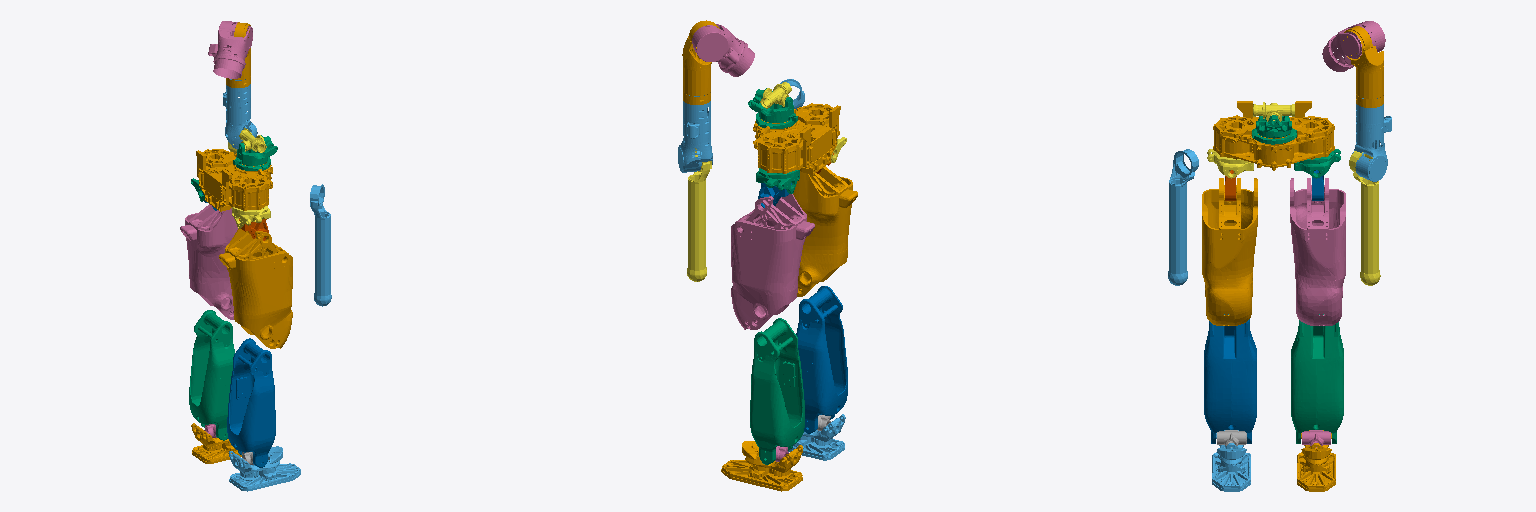
--- Render facts (derived) ---
Views: 3 orthographic renders of the robot side by side, from view 1: azimuth 30°, elevation 25°; view 2: azimuth 150°, elevation 25°; view 3: azimuth 270°, elevation 25°.
Model nadia with 34 links and 33 joints (23 revolute, 10 fixed), rooted at PELVIS_LINK, posed all joints at 0.
Visible links, largest first — view 1: RIGHT_THIGH_LINK, RIGHT_SHIN_LINK, LEFT_SHIN_LINK, LEFT_THIGH_LINK, PELVIS_LINK, RIGHT_ELBOW_PITCH_LINK, RIGHT_FOOT_LINK, LEFT_SHOULDER_PITCH_LINK, LEFT_SHOULDER_YAW_LINK, LEFT_FOOT_LINK, SPINE_YAW_LINK, LEFT_SHOULDER_ROLL_LINK (+1 smaller); view 2: LEFT_THIGH_LINK, LEFT_SHIN_LINK, RIGHT_SHIN_LINK, RIGHT_THIGH_LINK, PELVIS_LINK, LEFT_FOOT_LINK, LEFT_ELBOW_PITCH_LINK, LEFT_SHOULDER_PITCH_LINK, LEFT_SHOULDER_YAW_LINK, LEFT_SHOULDER_ROLL_LINK, RIGHT_FOOT_LINK, SPINE_YAW_LINK (+1 smaller); view 3: RIGHT_THIGH_LINK, LEFT_THIGH_LINK, RIGHT_SHIN_LINK, LEFT_SHIN_LINK, PELVIS_LINK, RIGHT_ELBOW_PITCH_LINK, LEFT_SHOULDER_YAW_LINK, LEFT_ELBOW_PITCH_LINK, LEFT_SHOULDER_ROLL_LINK, LEFT_FOOT_LINK, RIGHT_FOOT_LINK, LEFT_SHOULDER_PITCH_LINK (+4 smaller).
Link boxes in pixels (x1=…): RIGHT_THIGH_LINK: x1=219, y1=229, x2=292, y2=348; RIGHT_SHIN_LINK: x1=227, y1=338, x2=275, y2=467; LEFT_SHIN_LINK: x1=189, y1=310, x2=234, y2=440; LEFT_THIGH_LINK: x1=180, y1=204, x2=237, y2=319; PELVIS_LINK: x1=196, y1=149, x2=272, y2=211; RIGHT_ELBOW_PITCH_LINK: x1=310, y1=184, x2=331, y2=306; RIGHT_FOOT_LINK: x1=229, y1=446, x2=300, y2=491; LEFT_SHOULDER_PITCH_LINK: x1=208, y1=21, x2=252, y2=78; LEFT_SHOULDER_YAW_LINK: x1=223, y1=79, x2=257, y2=149; LEFT_FOOT_LINK: x1=191, y1=423, x2=241, y2=463; SPINE_YAW_LINK: x1=233, y1=135, x2=277, y2=170; LEFT_SHOULDER_ROLL_LINK: x1=226, y1=22, x2=250, y2=87; LEFT_THIGH_LINK: x1=731, y1=194, x2=814, y2=329; LEFT_SHIN_LINK: x1=750, y1=318, x2=804, y2=464; RIGHT_SHIN_LINK: x1=796, y1=286, x2=847, y2=433; RIGHT_THIGH_LINK: x1=793, y1=166, x2=857, y2=296; PELVIS_LINK: x1=753, y1=103, x2=840, y2=174; LEFT_FOOT_LINK: x1=721, y1=441, x2=802, y2=491; LEFT_ELBOW_PITCH_LINK: x1=687, y1=148, x2=711, y2=281; LEFT_SHOULDER_PITCH_LINK: x1=692, y1=24, x2=754, y2=76; LEFT_SHOULDER_YAW_LINK: x1=678, y1=95, x2=712, y2=172; LEFT_SHOULDER_ROLL_LINK: x1=682, y1=20, x2=719, y2=104; RIGHT_FOOT_LINK: x1=788, y1=414, x2=845, y2=460; SPINE_YAW_LINK: x1=748, y1=88, x2=797, y2=128; RIGHT_THIGH_LINK: x1=1202, y1=178, x2=1257, y2=325; LEFT_THIGH_LINK: x1=1290, y1=178, x2=1345, y2=325; RIGHT_SHIN_LINK: x1=1204, y1=314, x2=1256, y2=443; LEFT_SHIN_LINK: x1=1291, y1=314, x2=1343, y2=443; PELVIS_LINK: x1=1213, y1=101, x2=1334, y2=170; RIGHT_ELBOW_PITCH_LINK: x1=1168, y1=149, x2=1198, y2=285; LEFT_SHOULDER_YAW_LINK: x1=1352, y1=98, x2=1391, y2=181; LEFT_ELBOW_PITCH_LINK: x1=1349, y1=151, x2=1380, y2=285; LEFT_SHOULDER_ROLL_LINK: x1=1343, y1=26, x2=1383, y2=107; LEFT_FOOT_LINK: x1=1297, y1=430, x2=1335, y2=491; RIGHT_FOOT_LINK: x1=1212, y1=430, x2=1250, y2=491; LEFT_SHOULDER_PITCH_LINK: x1=1322, y1=21, x2=1385, y2=71.
Bounding box of the posed robot: 0.3882 × 0.6883 × 1.56 m (x, y, z).
20 mesh visuals loaded from 22 distinct referenced files (18 OBJ); not drawn: 4 (reference not matched to a file when rendering).

The robot description file, URDF, robot "nadia":
<?xml version = "1.0" ?>
<robot name="nadia" xmlns:xacro="http://www.ros.org/wiki/xacro">

<!-- revolute joints -->
<joint name="LEFT_HIP_Z" type="revolute">
    <origin rpy="0 0 0" xyz="0 0.115 -0.07185" />
    <axis xyz="0 0 -1" />
    <parent link="PELVIS_LINK" />
    <child link="LEFT_HIP_YAW_LINK" />
    <limit effort="1000" lower="-0.7854" upper="0.7854" velocity = "100" />
    <dynamics damping="0.05" friction="0.0"/>
</joint>

<joint name="RIGHT_HIP_Z" type="revolute">
    <origin rpy="0 0 0" xyz="0 -0.115 -0.07185" />
    <axis xyz="0 0 -1" />
    <parent link="PELVIS_LINK" />
    <child link="RIGHT_HIP_YAW_LINK" />
    <limit effort="1000" lower="-0.7854" upper="0.7854" velocity = "100" />
    <dynamics damping="0.05" friction="0.0"/>
</joint>

<joint name="LEFT_HIP_X" type="revolute">
    <origin rpy="0 0 0" xyz="0.035 0.015 -0.04975" />
    <axis xyz="1 0 0" />
    <parent link="LEFT_HIP_YAW_LINK" />
    <child link="LEFT_HIP_ROLL_LINK" />
    <limit effort="1000" lower="-0.5236" upper="1.0472" velocity = "100" />
    <dynamics damping="0.05" friction="0.0"/>
</joint>

<joint name="RIGHT_HIP_X" type="revolute">
    <origin rpy="0 0 0" xyz="0.035 -0.015 -0.04975" />
    <axis xyz="1 0 0" />
    <parent link="RIGHT_HIP_YAW_LINK" />
    <child link="RIGHT_HIP_ROLL_LINK" />
    <limit effort="1000" lower="-1.0472" upper="0.5236" velocity = "100" />
    <dynamics damping="0.05" friction="0.0"/>
</joint>

<joint name="LEFT_HIP_Y" type="revolute">
    <origin rpy="0 0 0" xyz="0 0 -0.079068" />
    <axis xyz="0 1 0" />
    <parent link="LEFT_HIP_ROLL_LINK" />
    <child link="LEFT_THIGH_LINK" />
    <limit effort="1000" lower="-1.57" upper="0.314" velocity = "100" />
    <dynamics damping="0.05" friction="0.0"/>
</joint>

<joint name='LEFT_KNEE_Y' type='revolute'>
    <!-- <origin rpy="0 0 0" xyz="0 0 -0.38" /> -->
    <origin rpy="0 0 0" xyz="-0.02 0 -0.44" />
    <axis xyz="0 1 0" />
    <parent link="LEFT_THIGH_LINK" />
    <child link="LEFT_SHIN_LINK" />
    <limit effort="350" lower="0" upper="2.62" velocity = "100" />
    <dynamics damping="0.05" friction="0.0"/>
</joint>

<joint name="RIGHT_HIP_Y" type="revolute">
    <origin rpy="0 0 0" xyz="0 0 -0.079068" />
    <axis xyz="0 1 0" />
    <parent link="RIGHT_HIP_ROLL_LINK" />
    <child link="RIGHT_THIGH_LINK" />
    <limit effort="1000" lower="-1.57" upper="0.314" velocity = "100" />
    <dynamics damping="0.05" friction="0.0"/>
</joint>

<joint name='RIGHT_KNEE_Y' type='revolute'>
    <!-- <origin rpy="0 0 0" xyz="0 0 -0.38" /> -->
    <origin rpy="0 0 0" xyz="-0.02 0 -0.44" />
    <axis xyz="0 1 0" />
    <parent link="RIGHT_THIGH_LINK" />
    <child link="RIGHT_SHIN_LINK" />
    <limit effort="350" lower="0" upper="2.62" velocity = "100" />
    <dynamics damping="0.05" friction="0.0"/>
</joint>

<joint name="LEFT_ANKLE_Y" type="revolute">
    <origin rpy="0 0 0" xyz="-0.00830222 0 -0.40213938" />
    <axis xyz="0 1 0" />
    <parent link="LEFT_SHIN_LINK" />
    <child link="LEFT_ANKLE_LINK" />
    <limit effort="1000" lower="-1.0472" upper="0.698132" velocity = "100" />
    <dynamics damping="0.05" friction="0.0"/>
</joint>

<joint name="RIGHT_ANKLE_Y" type="revolute">
    <origin rpy="0 0 0" xyz="-0.00830222 0 -0.40213938" />
    <axis xyz="0 1 0" />
    <parent link="RIGHT_SHIN_LINK" />
    <child link="RIGHT_ANKLE_LINK" />
    <limit effort="1000" lower="-1.0472" upper="0.698132" velocity = "100" />
    <dynamics damping="0.05" friction="0.0"/>
</joint>

<joint name="LEFT_ANKLE_X" type="revolute">
    <origin rpy="0 0 0" xyz="0 0 -0.01" />
    <axis xyz="1 0 0" />
    <parent link="LEFT_ANKLE_LINK" />
    <child link="LEFT_FOOT_LINK" />
    <limit effort="1000" lower="-0.436332" upper="0.436332" velocity = "100" />
    <dynamics damping="0.05" friction="0.0"/>
</joint>

<joint name="RIGHT_ANKLE_X" type="revolute">
    <origin rpy="0 0 0" xyz="0 0 -0.01" />
    <axis xyz="1 0 0" />
    <parent link="RIGHT_ANKLE_LINK" />
    <child link="RIGHT_FOOT_LINK" />
    <limit effort="1000" lower="-0.436332" upper="0.436332" velocity = "100" />
    <dynamics damping="0.05" friction="0.0"/>
</joint>

<joint name="SPINE_Z" type="revolute">
    <origin rpy="0 0 0" xyz="0.08 0 0.00635" />
    <axis xyz="0 0 1" />
    <parent link="PELVIS_LINK" />
    <child link="SPINE_YAW_LINK" />
    <limit effort="1000" lower="-1.0472" upper="1.0472" velocity = "100" />
    <dynamics damping="0.05" friction="0.0"/>
</joint>

<joint name="SPINE_X" type="revolute">
    <origin rpy="0 0 0" xyz="0 0 0.08205" />
    <axis xyz="1 0 0" />
    <parent link="SPINE_YAW_LINK" />
    <child link="SPINE_ROLL_LINK" />
    <limit effort="1000" lower="-0.523599" upper="0.523599" velocity = "100" />
    <dynamics damping="0.05" friction="0.0"/>
</joint>

<joint name="SPINE_Y" type="revolute">
    <origin rpy="0 0 0" xyz="0 0 0.01" />
    <axis xyz="0 1 0" />
    <parent link="SPINE_ROLL_LINK" />
    <child link="TORSO_LINK" />
    <limit effort="1000" lower="-1.0472" upper="1.0472" velocity = "100" />
    <dynamics damping="0.05" friction="0.0"/>
</joint>


<!-- links -->
<link name="PELVIS_LINK">
  <inertial>
    <mass value="19.0917"/>
    <origin rpy="0 0 0" xyz="0.02073086 2.023E-05 -0.0309812"/>
    <inertia ixx="0.0942" ixy="6.05E-06" ixz="0.000379" iyy="0.0416" iyz="3.37E-07" izz="0.112" />
  </inertial>
  <visual>
    <geometry>
      <mesh filename="package://nadia_V16_description/meshes/pelvis.obj"/>
    </geometry>
    <origin rpy="0.0 0.0 0.0" xyz="0.0 0.0 0.0"/>
  </visual>
</link>

<!-- pelvis_stim_imu -->
  <joint name="PELVIS_STIM_IMU_JOINT" type="fixed">
    <parent link="PELVIS_LINK"/>
    <child link="PELVIS_STIM_IMU_LINK"/>
    <origin xyz="-0.03133646 0.02237500 -0.07000000" rpy="0.0 3.141592 0.0"/>
  </joint>

  <link name="PELVIS_STIM_IMU_LINK">
    <inertial>
      <mass value="0.0" />
      <origin xyz="0 0 0" rpy="0 0 0" />
      <inertia ixx="0.0" ixy="0.0" ixz="0.0" iyy="0.0" iyz="0.0" izz="0.0" />
    </inertial>
  </link>

  <gazebo reference="PELVIS_STIM_IMU_LINK">
    <sensor name="pelvis_stim_imu" type="imu">
      <always_on>1</always_on>
      <update_rate>1000.0</update_rate>
      <imu>
        <noise>
          <type>gaussian</type>
          <rate>
            <mean>0.0</mean>
            <stddev>2e-4</stddev>
            <bias_mean>0.0000075</bias_mean>
            <bias_stddev>0.0000008</bias_stddev>
          </rate>
          <accel>
            <mean>0.0</mean>
            <stddev>1.7e-2</stddev>
            <bias_mean>0.1</bias_mean>
            <bias_stddev>0.001</bias_stddev>
          </accel>
        </noise>
      </imu>
    </sensor>
  </gazebo>
 <!-- end pelvis stim imu -->

<link name="LEFT_HIP_YAW_LINK">
  <inertial>
    <mass value="1.814"/>
    <origin rpy="0 0 0" xyz="-0.00629727 0.00606893 -0.03971844"/>
    <inertia ixx="0.004741914" ixy="0.000527" ixz="-0.000307" iyy="0.00414" iyz="1.36E-05" izz="0.00569" />
  </inertial>
  <visual>
    <geometry>
      <mesh filename="package://nadia_V16_description/meshes/left_hip_yaw.obj"/>
    </geometry>
    <origin rpy="0.0 0.0 0.0" xyz="0.0 0.0 0.0"/>
  </visual>
</link>

<link name="RIGHT_HIP_YAW_LINK">
  <inertial>
    <mass value="1.814"/>
    <origin rpy="0 0 0" xyz="-0.00629727 -0.00606893 -0.03971844"/>
    <inertia ixx="0.004741914" ixy="-0.000527" ixz="-0.000307" iyy="0.00414" iyz="-1.36E-05" izz="0.00569" />
  </inertial>
  <visual>
    <geometry>
      <mesh filename="package://nadia_V16_description/meshes/right_hip_yaw.obj"/>
    </geometry>
    <origin rpy="0.0 0.0 0.0" xyz="0.0 0.0 0.0"/>
  </visual>
</link>

<link name="LEFT_HIP_ROLL_LINK">
  <inertial>
    <mass value="0.762"/>
    <origin rpy="0 0 0" xyz="-0.01327037 0.00316985 -0.05399997"/>
    <inertia ixx="0.001028994" ixy="-9.31E-06" ixz="0.000352" iyy="0.00138" iyz="3.22E-05" izz="0.000663" />
  </inertial>
  <visual>
    <geometry>
      <mesh filename="package://nadia_V16_description/meshes/left_hip_roll.obj"/>
    </geometry>
    <origin rpy="0.0 0.0 0.0" xyz="0.0 0.0 0.0"/>
  </visual>
</link>

<link name="RIGHT_HIP_ROLL_LINK">
  <inertial>
    <mass value="0.762"/>
    <origin rpy="0 0 0" xyz="-0.01327037 -0.00316985 -0.05399997"/>
    <inertia ixx="0.001028994" ixy="9.31E-06" ixz="0.000352" iyy="0.00138" iyz="-3.22E-05" izz="0.000663" />
  </inertial>
  <visual>
    <geometry>
      <mesh filename="package://nadia_V16_description/meshes/right_hip_roll.obj"/>
    </geometry>
    <origin rpy="0.0 0.0 0.0" xyz="0.0 0.0 0.0"/>
  </visual>
</link>

<link name="LEFT_THIGH_LINK">
  <inertial>
    <mass value="10.953"/>
    <origin rpy="0 0 0" xyz="-0.00093749 0.01134511 -0.17863144"/>
    <inertia ixx="0.1622268263" ixy="-0.000749" ixz="0.0156" iyy="0.174" iyz="0.00213" izz="0.0528" />
  </inertial>
  <visual>
    <geometry>
      <mesh filename="package://nadia_V16_description/meshes/left_thigh.obj"/>
    </geometry>
    <origin rpy="0.0 0.0 0.0" xyz="0.0 0.0 0.0"/>
  </visual>
</link>

<!-- left thigh imu -->
  <joint name="LEFT_THIGH_IMU_JOINT" type="fixed">
    <parent link="LEFT_THIGH_LINK"/>
    <child link="LEFT_THIGH_IMU_LINK"/>
    <origin xyz="0.05793744 0.01666131 -0.09511697" rpy="2.025  0.000 -1.571"/>  
  </joint>

  <link name="LEFT_THIGH_IMU_LINK">
    <inertial>
      <mass value="0.0" />
      <origin xyz="0 0 0" rpy="0 0 0" />
      <inertia ixx="0.0" ixy="0.0" ixz="0.0" iyy="0.0" iyz="0.0" izz="0.0" />
    </inertial>
  </link>

  <gazebo reference="LEFT_THIGH_IMU_LINK">
    <sensor name="left_thigh_imu" type="imu">
      <always_on>1</always_on>
      <update_rate>1000.0</update_rate>
      <imu>
        <noise>
          <type>gaussian</type>
          <rate>
            <mean>0.0</mean>
            <stddev>2e-4</stddev>
            <bias_mean>0.0000075</bias_mean>
            <bias_stddev>0.0000008</bias_stddev>
          </rate>
          <accel>
            <mean>0.0</mean>
            <stddev>1.7e-2</stddev>
            <bias_mean>0.1</bias_mean>
            <bias_stddev>0.001</bias_stddev>
          </accel>
        </noise>
      </imu>
    </sensor>
  </gazebo>
<!-- end left thigh imu -->

<link name="RIGHT_THIGH_LINK">
  <inertial>
    <mass value="10.953"/>
    <origin rpy="0 0 0" xyz="-0.00093749 -0.01134511 -0.17863144"/>
    <inertia ixx="0.1622268263" ixy="0.000749" ixz="0.0156" iyy="0.174" iyz="-0.00213" izz="0.0528" />
  </inertial>
  <visual>
    <geometry>
      <mesh filename="package://nadia_V16_description/meshes/right_thigh.obj"/>
    </geometry>
    <origin rpy="0.0 0.0 0.0" xyz="0.0 0.0 0.0"/>
  </visual>
</link>

<!-- right thigh imu -->
  <joint name="RIGHT_THIGH_IMU_JOINT" type="fixed">
    <parent link="RIGHT_THIGH_LINK"/>
    <child link="RIGHT_THIGH_IMU_LINK"/>
    <origin xyz="0.05793670 0.01066129 -0.09511742" rpy="2.025  0.000 -1.571"/>  
  </joint>

  <link name="RIGHT_THIGH_IMU_LINK">
    <inertial>
      <mass value="0.0" />
      <origin xyz="0 0 0" rpy="0 0 0" />
      <inertia ixx="0.0" ixy="0.0" ixz="0.0" iyy="0.0" iyz="0.0" izz="0.0" />
    </inertial>
  </link>

  <gazebo reference="RIGHT_THIGH_IMU_LINK">
    <sensor name="right_thigh_imu" type="imu">
      <always_on>1</always_on>
      <update_rate>1000.0</update_rate>
      <imu>
        <noise>
          <type>gaussian</type>
          <rate>
            <mean>0.0</mean>
            <stddev>2e-4</stddev>
            <bias_mean>0.0000075</bias_mean>
            <bias_stddev>0.0000008</bias_stddev>
          </rate>
          <accel>
            <mean>0.0</mean>
            <stddev>1.7e-2</stddev>
            <bias_mean>0.1</bias_mean>
            <bias_stddev>0.001</bias_stddev>
          </accel>
        </noise>
      </imu>
    </sensor>
  </gazebo>
<!-- end right thigh imu -->

<link name="LEFT_SHIN_LINK">
  <inertial>
    <mass value="5.42"/>
    <origin rpy="0 0 0" xyz="-0.01841492 0.00228086 -0.22054239"/>
    <inertia ixx="0.064437783" ixy="-0.000214" ixz="-0.00538" iyy="0.0583" iyz="-0.000962" izz="0.0136" />
  </inertial>
  <visual>
    <geometry>
      <mesh filename="package://nadia_V16_description/meshes/left_shin.obj"/>
    </geometry>
    <origin rpy="0.0 0.0 0.0" xyz="0.0 0.0 0.0"/>
  </visual>
</link>


<!-- left shin imu -->
  <joint name="LEFT_SHIN_IMU_JOINT" type="fixed">
    <parent link="LEFT_SHIN_LINK"/>
    <child link="LEFT_SHIN_IMU_LINK"/>
    <origin xyz="-0.03216129 -0.07159184 -0.1864738" rpy="-1.570796 0.0 0.0"/>  
  </joint>

  <link name="LEFT_SHIN_IMU_LINK">
    <inertial>
      <mass value="0.0" />
      <origin xyz="0 0 0" rpy="0 0 0" />
      <inertia ixx="0.0" ixy="0.0" ixz="0.0" iyy="0.0" iyz="0.0" izz="0.0" />
    </inertial>
  </link>

  <gazebo reference="LEFT_SHIN_IMU_LINK">
    <sensor name="left_shin_imu" type="imu">
      <always_on>1</always_on>
      <update_rate>1000.0</update_rate>
      <imu>
        <noise>
          <type>gaussian</type>
          <rate>
            <mean>0.0</mean>
            <stddev>2e-4</stddev>
            <bias_mean>0.0000075</bias_mean>
            <bias_stddev>0.0000008</bias_stddev>
          </rate>
          <accel>
            <mean>0.0</mean>
            <stddev>1.7e-2</stddev>
            <bias_mean>0.1</bias_mean>
            <bias_stddev>0.001</bias_stddev>
          </accel>
        </noise>
      </imu>
    </sensor>
  </gazebo>
<!-- end left shin imu -->

<link name="RIGHT_SHIN_LINK">
  <inertial>
    <mass value="5.42"/>
    <origin rpy="0 0 0" xyz="-0.01837047 -0.00241134 -0.21991278"/>
    <inertia ixx="0.064443143" ixy="0.000202" ixz="-0.00539" iyy="0.0583" iyz="0.000906" izz="0.0136" />
  </inertial>
  <visual>
    <geometry>
      <mesh filename="package://nadia_V16_description/meshes/right_shin.obj"/>
    </geometry>
    <origin rpy="0.0 0.0 0.0" xyz="0.0 0.0 0.0"/>
  </visual>
</link>

<!-- right shin imu -->
  <joint name="RIGHT_SHIN_IMU_JOINT" type="fixed">
    <parent link="RIGHT_SHIN_LINK"/>
    <child link="RIGHT_SHIN_IMU_LINK"/>
    <origin xyz="-0.002838710 0.07159142 -0.1864738" rpy="-1.570796 0.0 3.141592"/>  
  </joint>

  <link name="RIGHT_SHIN_IMU_LINK">
    <inertial>
      <mass value="0.0" />
      <origin xyz="0 0 0" rpy="0 0 0" />
      <inertia ixx="0.0" ixy="0.0" ixz="0.0" iyy="0.0" iyz="0.0" izz="0.0" />
    </inertial>
  </link>

  <gazebo reference="RIGHT_SHIN_IMU_LINK">
    <sensor name="right_shin_imu" type="imu">
      <always_on>1</always_on>
      <update_rate>1000.0</update_rate>
      <imu>
        <noise>
          <type>gaussian</type>
          <rate>
            <mean>0.0</mean>
            <stddev>2e-4</stddev>
            <bias_mean>0.0000075</bias_mean>
            <bias_stddev>0.0000008</bias_stddev>
          </rate>
          <accel>
            <mean>0.0</mean>
            <stddev>1.7e-2</stddev>
            <bias_mean>0.1</bias_mean>
            <bias_stddev>0.001</bias_stddev>
          </accel>
        </noise>
      </imu>
    </sensor>
  </gazebo>
<!-- end right shin imu -->

<link name="LEFT_ANKLE_LINK">
  <inertial>
    <mass value="0.56"/>
    <origin rpy="0 0 0" xyz="-0.00072338 -6.619E-05 -0.00399965"/>
    <inertia ixx="0.000459" ixy="2.65E-08" ixz="-2.43E-06" iyy="0.000336" iyz="1.48E-07" izz="0.000645" />
  </inertial>
  <visual>
    <geometry>
      <mesh filename="package://nadia_V16_description/meshes/ankle.obj"/>
    </geometry>
    <origin rpy="0.0 0.0 0.0" xyz="0.0 0.0 0.0"/>
  </visual>
</link>

<link name="RIGHT_ANKLE_LINK">
  <inertial>
    <mass value="0.56"/>
    <origin rpy="0 0 0" xyz="-0.00072338 6.619E-05 -0.00399965"/>
    <inertia ixx="0.000459" ixy="-2.65E-08" ixz="-2.43E-06" iyy="0.000336" iyz="-1.48E-07" izz="0.000645" />
  </inertial>
  <visual>
    <geometry>
      <mesh filename="package://nadia_V16_description/meshes/ankle.obj"/>
    </geometry>
    <origin rpy="0.0 0.0 0.0" xyz="0.0 0.0 0.0"/>
  </visual>
</link>

<link name="LEFT_FOOT_LINK">
  <inertial>
    <mass value="1.75"/>
    <origin rpy="0 0 0" xyz="0.03075449 0.00007807 -0.04382467"/>
    <inertia ixx="0.00345011" ixy="-0.0000073" ixz="0.0014225" iyy="0.00955764" iyz="-2.269e-7" izz="0.00881313" />
  </inertial>
  <visual>
    <geometry>
      <mesh filename="package://nadia_V16_description/meshes/foot.obj"/>
    </geometry>
    <origin rpy="0.0 0.0 0.0" xyz="0.0 0.0 0.0"/>
  </visual>
</link>

<link name="RIGHT_FOOT_LINK">
  <inertial>
    <mass value="1.75"/>
    <origin rpy="0 0 0" xyz="0.032048 4e-06 -0.028422"/>
    <inertia ixx="0.00345011" ixy="-0.0000073" ixz="0.0014225" iyy="0.00955764" iyz="-2.269e-7" izz="0.00881313" />
  </inertial>
  <visual>
    <geometry>
      <mesh filename="package://nadia_V16_description/meshes/foot.obj"/>
    </geometry>
    <origin rpy="0.0 0.0 0.0" xyz="0.0 0.0 0.0"/>
  </visual>
</link>

<link name="SPINE_YAW_LINK">
  <inertial>
    <mass value="0.91"/>
    <origin rpy="0 0 0" xyz="-0.00853118 -2.697E-05 0.03791445"/>
    <inertia ixx="0.00374289408" ixy="1.25497934E-07" ixz="0.000271325072" iyy="0.00403002777" iyz="-1.38015692E-07" izz="0.0062129847" />
  </inertial>
  <visual>
    <geometry>
      <mesh filename="package://nadia_V16_description/meshes/spine_yaw.obj"/>
    </geometry>
    <origin rpy="0.0 0.0 0.0" xyz="0.0 0.0 0.0"/>
  </visual>
</link>

<link name="SPINE_ROLL_LINK">
  <inertial>
    <mass value="0.44"/>
    <origin rpy="0 0 0" xyz="-0.01904983 7E-08 0.01979244"/>
    <inertia ixx="0.000373262301" ixy="-1.51441878E-10" ixz="-6.69067307E-05" iyy="0.000649978475" iyz="-1.27858402E-10" izz="0.000419408851" />
  </inertial>
  <visual>
    <geometry>
      <mesh filename="package://nadia_V16_description/meshes/spine_roll.obj"/>
    </geometry>
    <origin rpy="0.0 0.0 0.0" xyz="0.0 0.0 0.0"/>
  </visual>
</link>

<link name="TORSO_LINK">
  <inertial>
    <mass value="13.5"/>
    <origin rpy="0 0 0" xyz="-0.03613868 -2.81E-06 0.25908586"/>
    <inertia ixx="0.534504681" ixy="8.41519717E-05" ixz="-0.00672956305" iyy="0.505409852" iyz="0.000207996773" izz="0.379402013" />
  </inertial>
  <visual>
    <geometry>
      <mesh filename="package://nadia_V16_description/meshes/torso_cycloidmounts.obj"/>
    </geometry>
    <origin rpy="0.0 0.0 0.0" xyz="0.0 0.0 0.0"/>
  </visual>
</link>

<!-- torso imu -->
  <joint name="TORSO_IMU_JOINT" type="fixed">
    <parent link="TORSO_LINK"/>
    <child link="TORSO_IMU_LINK"/>
    <origin xyz="0.04529 -0.02427 0.33757" rpy="3.141592 0 0"/>  
  </joint>

  <link name="TORSO_IMU_LINK">
    <inertial>
      <mass value="0.0" />
      <origin xyz="0 0 0" rpy="0 0 0" />
      <inertia ixx="0.0" ixy="0.0" ixz="0.0" iyy="0.0" iyz="0.0" izz="0.0" />
    </inertial>
  </link>

  <gazebo reference="TORSO_IMU_LINK">
    <sensor name="torso_imu" type="imu">
      <always_on>1</always_on>
      <update_rate>1000.0</update_rate>
      <imu>
        <noise>
          <type>gaussian</type>
          <rate>
            <mean>0.0</mean>
            <stddev>2e-4</stddev>
            <bias_mean>0.0000075</bias_mean>
            <bias_stddev>0.0000008</bias_stddev>
          </rate>
          <accel>
            <mean>0.0</mean>
            <stddev>1.7e-2</stddev>
            <bias_mean>0.1</bias_mean>
            <bias_stddev>0.001</bias_stddev>
          </accel>
        </noise>
      </imu>
    </sensor>
  </gazebo>
<!-- end torso imu -->

<!-- left arm -->
<joint name="LEFT_SHOULDER_Y" type="revolute">
    <origin xyz="0.001 0.185 0.173" rpy="0.785398163 0.0 -0.785398163"   />
    <axis xyz="0.0 1.0 0.0" />
    <parent link="TORSO_LINK" />
    <child link="LEFT_SHOULDER_PITCH_LINK" />
    <limit effort="1000" lower="-3.141592" upper="1.22173" velocity = "100" />
    <dynamics damping="0.05" friction="0.0"/>
</joint>
<joint name="LEFT_SHOULDER_X" type="revolute">
    <origin rpy="-0.785398163 0.0 0.0" xyz="0.0 0.15676000 -0.01300000" />
    <axis xyz="1 0 0" />
    <parent link="LEFT_SHOULDER_PITCH_LINK" />
    <child link="LEFT_SHOULDER_ROLL_LINK" />
    <limit effort="1000" lower="-0.261799" upper="2.87979" velocity = "100" />
    <dynamics damping="0.05" friction="0.0"/>
</joint>
<joint name="LEFT_SHOULDER_Z" type="revolute">
    <origin rpy="0.0 0.0 0.0" xyz="0.0 0.035 0.0" />
    <axis xyz="0.0 0.0 1.0" />
    <parent link="LEFT_SHOULDER_ROLL_LINK" />
    <child link="LEFT_SHOULDER_YAW_LINK" />
    <limit effort="1000" lower="-1.91986" upper="1.22173" velocity = "100" />
    <dynamics damping="0.05" friction="0.0"/>
</joint>
<joint name="LEFT_ELBOW_Y" type="revolute">
    <origin rpy="0.0 0.0 0.0" xyz="0.015 0.0 -0.4" />
    <axis xyz="0.0 1.0 0.0" />
    <parent link="LEFT_SHOULDER_YAW_LINK" />
    <child link="LEFT_ELBOW_PITCH_LINK" />
    <limit effort="1000" lower="-2.35619" upper="0.174532925" velocity = "100" />
    <dynamics damping="0.05" friction="0.0"/>
</joint>

<link name="LEFT_SHOULDER_PITCH_LINK">
  <inertial>
    <mass value="2.917"/>
    <origin rpy="0 0 0" xyz="-0.00117 0.1400097 -0.00621"/>
    <inertia ixx="0.0108367" ixy="1.356e-4" ixz="-2.666e-5" iyy="0.00498324" iyz="0.00090758" izz="0.01142661" />
  </inertial>
  <visual>
    <geometry>
      <mesh filename="package://nadia_V17_description/meshes/cycloidal_arm/LEFT_SHOULDER_PITCH_LINK.obj"/>
    </geometry>
    <origin rpy="0.0 0.0 0.0" xyz="0.0 0.0 0.0"/>
  </visual>
</link>

<!-- LEFT SHOULDER PITCH IMU Information --> 
<joint name="LEFT_SHOULDER_PITCH_IMU_JOINT" type="fixed">
	<origin rpy="-1.570796 1.570796 0" xyz="0.0174 0.06944 -0.03025"/>
	<axis xyz="0 0 1"/>
	<parent link="LEFT_SHOULDER_PITCH_LINK"/>
	<child link="LEFT_SHOULDER_PITCH_IMU_LINK"/>
</joint>

<link name="LEFT_SHOULDER_PITCH_IMU_LINK">
    <inertial>
      <mass value="0"/>
      <origin rpy="0 0 0" xyz="0 0 0"/>
      <inertia ixx="0.0" ixy="0.0" ixz="0.0" iyy="0.0" iyz="0.0" izz="0.0"/>
    </inertial>
</link>

<gazebo reference="LEFT_SHOULDER_PITCH_IMU_LINK">
	<sensor name="left_shoulder_pitch_imu" type="imu">
	  <imuTransform>0.0174 0.06944 -0.03025 -1.570796 1.570796 0</imuTransform>
	  <always_on>true</always_on>
	  <pose>0 0 0 0 0 0 </pose>
	  <imu>
		<noise>
		  <type>gaussian</type>
		  <rate>
			<mean>0</mean>
			<stddev>0.0002</stddev>
			<bias_mean>7.5e-06</bias_mean>
			<bias_stddev>8e-07</bias_stddev>
		  </rate>
		  <accel>
			<mean>0</mean>
			<stddev>0.017</stddev>
			<bias_mean>0.1</bias_mean>
			<bias_stddev>0.001</bias_stddev>
		  </accel>
		</noise>
	  </imu>
	</sensor>
</gazebo>

<link name="LEFT_SHOULDER_ROLL_LINK">
  <inertial>
    <mass value="1.17068"/>
    <origin rpy="0 0 0" xyz="0.01053 0.02124 -0.1052690"/>
    <inertia ixx="0.00787035" ixy="1.667e-4" ixz="-0.00075945" iyy="0.00727481" iyz="0.000988837" izz="0.00182144" />
  </inertial>
  <visual>
    <geometry>
      <mesh filename="package://nadia_V17_description/meshes/cycloidal_arm/LEFT_SHOULDER_ROLL_LINK.obj"/>
    </geometry>
    <origin rpy="0.0 0.0 0.0" xyz="0.0 0.0 0.0"/>
  </visual>
</link>

<link name="LEFT_SHOULDER_YAW_LINK">
  <inertial>
    <mass value="2.53059"/>
    <origin rpy="0 0 0" xyz="0.00479 0.00062 -0.3624141"/>
    <inertia ixx="0.02277422" ixy="5.053e-5" ixz="0.0012266" iyy="0.0225956" iyz="-2.571e-4" izz="0.00260312" />
  </inertial>
  <visual>
    <geometry>
      <mesh filename="package://nadia_V17_description/meshes/cycloidal_arm/LEFT_SHOULDER_YAW_LINK.obj"/>
    </geometry>
    <origin rpy="0.0 0.0 0.0" xyz="0.0 0.0 0.0"/>
  </visual>
</link>

<!-- Left Shoulder Yaw IMU -->
<joint name="LEFT_SHOULDER_YAW_IMU_JOINT" type="fixed">
	<origin rpy="-1.570796 3.1415926 -0.314159" xyz="-0.00763459 -0.0123324 -0.318"/>
	<axis xyz="0 0 1"/>
	<parent link="LEFT_SHOULDER_YAW_LINK"/> 
	<child link="LEFT_SHOULDER_YAW_IMU_LINK"/>
</joint>

<link name="LEFT_SHOULDER_YAW_IMU_LINK">
    <inertial>
      <mass value="0"/>
      <origin rpy="0 0 0" xyz="0 0 0"/>
      <inertia ixx="0.0" ixy="0.0" ixz="0.0" iyy="0.0" iyz="0.0" izz="0.0"/>
    </inertial>
 </link>

<gazebo reference="LEFT_SHOULDER_YAW_IMU_LINK">
<sensor name="left_shoulder_yaw_imu" type="imu">
  <imuTransform>-0.00763459 -0.0123324 -0.318 -1.570796 3.1415926 -0.314159</imuTransform>
  <always_on>true</always_on>
  <pose>0 0 0 0 0 0 </pose>
  <imu>
	<noise>
	  <type>gaussian</type>
	  <rate>
		<mean>0</mean>
		<stddev>0.0002</stddev>
		<bias_mean>7.5e-06</bias_mean>
		<bias_stddev>8e-07</bias_stddev>
	  </rate>
	  <accel>
		<mean>0</mean>
		<stddev>0.017</stddev>
		<bias_mean>0.1</bias_mean>
		<bias_stddev>0.001</bias_stddev>
	  </accel>
	</noise>
  </imu>
</sensor>
</gazebo>

<link name="LEFT_ELBOW_PITCH_LINK">
  <inertial>
    <mass value="0.6007"/>
    <origin rpy="0 0 0" xyz="-0.01090935 -0.01147189 -0.10388715"/>
    <inertia ixx="0.00760733" ixy="2.242e-5" ixz="-2.583e-4" iyy="0.00767556" iyz="0.00061995" izz="4.554e-4" />
  </inertial>
  <visual>
    <geometry>
      <mesh filename="package://nadia_V17_description/meshes/cycloidal_arm/LEFT_ELBOW_PITCH_LINK_413mm_LENGTH.obj"/>
    </geometry>
    <origin rpy="0.0 0.0 0.0" xyz="0.0 0.0 0.0"/>
  </visual>
</link>


<joint name="RIGHT_SHOULDER_Y" type="revolute">
    <origin xyz="0.001 -0.185 0.173" rpy="-0.785398163 0.0 0.785398163"   />
    <axis xyz="0.0 1.0 0.0" />
    <parent link="TORSO_LINK" />
    <child link="RIGHT_SHOULDER_PITCH_LINK" />
    <limit effort="1000" lower="-3.141592" upper="1.22173" velocity = "100" />
    <dynamics damping="0.05" friction="0.0"/>
</joint>
<joint name="RIGHT_SHOULDER_X" type="revolute">
    <origin rpy="0.785398163 0.0 0.0" xyz="0.0 -0.15676000 -0.01300000" />
    <axis xyz="1 0 0" />
    <parent link="RIGHT_SHOULDER_PITCH_LINK" />
    <child link="RIGHT_SHOULDER_ROLL_LINK" />
    <limit effort="1000" lower="-2.87979" upper="0.261799" velocity = "100" />
    <dynamics damping="0.05" friction="0.0"/>
</joint>
<joint name="RIGHT_SHOULDER_Z" type="revolute">
    <origin rpy="0.0 0.0 0.0" xyz="0.0 -0.035 0.0" />
    <axis xyz="0.0 0.0 1.0" />
    <parent link="RIGHT_SHOULDER_ROLL_LINK" />
    <child link="RIGHT_SHOULDER_YAW_LINK" />
    <limit effort="1000" lower="-1.22173" upper="1.91986" velocity = "100" />
    <dynamics damping="0.05" friction="0.0"/>
</joint>
<joint name="RIGHT_ELBOW_Y" type="revolute">
    <origin rpy="0.0 0.0 0.0" xyz="0.015 0.0 -0.4" />
    <axis xyz="0.0 1.0 0.0" />
    <parent link="RIGHT_SHOULDER_YAW_LINK" />
    <child link="RIGHT_ELBOW_PITCH_LINK" />
    <limit effort="1000" lower="-2.35619" upper="0.174532925" velocity = "100" />
    <dynamics damping="0.05" friction="0.0"/>
</joint>

<link name="RIGHT_SHOULDER_PITCH_LINK">
  <inertial>
    <mass value="2.917"/>
    <origin rpy="0 0 0" xyz="-0.00117 -0.1400097 -0.00621"/>
    <inertia ixx="0.0108367" ixy="1.356e-4" ixz="-2.666e-5" iyy="0.00498324" iyz="0.00090758" izz="0.01142661" />
  </inertial>
  <visual>
    <geometry>
      <mesh filename="package://nadia_V17_description/meshes/cycloidal_arm/RIGHT_SHOULDER_PITCH_LINK.obj"/>
    </geometry>
    <origin rpy="0.0 0.0 0.0" xyz="0.0 0.0 0.0"/>
  </visual>
</link>

<!-- RIGHT SHOULDER PITCH IMU Information --> 
<joint name="RIGHT_SHOULDER_PITCH_IMU_JOINT" type="fixed">
	<origin rpy="-1.570796 1.570796 0" xyz="0.0174 -0.06944 -0.03025"/>
	<axis xyz="0 0 1"/>
	<parent link="RIGHT_SHOULDER_PITCH_LINK"/>
	<child link="RIGHT_SHOULDER_PITCH_IMU_LINK"/>
</joint>

<link name="RIGHT_SHOULDER_PITCH_IMU_LINK">
    <inertial>
      <mass value="0"/>
      <origin rpy="0 0 0" xyz="0 0 0"/>
      <inertia ixx="0.0" ixy="0.0" ixz="0.0" iyy="0.0" iyz="0.0" izz="0.0"/>
    </inertial>
</link>

<gazebo reference="RIGHT_SHOULDER_PITCH_IMU_LINK">
	<sensor name="right_shoulder_pitch_imu" type="imu">
	  <imuTransform>0.0174 0.06944 -0.03025 -1.570796 1.570796 0</imuTransform>
	  <always_on>true</always_on>
	  <pose>0 0 0 0 0 0 </pose>
	  <imu>
		<noise>
		  <type>gaussian</type>
		  <rate>
			<mean>0</mean>
			<stddev>0.0002</stddev>
			<bias_mean>7.5e-06</bias_mean>
			<bias_stddev>8e-07</bias_stddev>
		  </rate>
		  <accel>
			<mean>0</mean>
			<stddev>0.017</stddev>
			<bias_mean>0.1</bias_mean>
			<bias_stddev>0.001</bias_stddev>
		  </accel>
		</noise>
	  </imu>
	</sensor>
</gazebo>

<link name="RIGHT_SHOULDER_ROLL_LINK">
  <inertial>
    <mass value="1.17068"/>
    <origin rpy="0 0 0" xyz="-0.01053 -0.02124 -0.1052690"/>
    <inertia ixx="-0.00787035" ixy="-1.667e-4" ixz="-0.00075945" iyy="0.00727481" iyz="-0.000988837" izz="-0.00182144" />
  </inertial>
  <visual>
    <geometry>
      <mesh filename="package://nadia_V17_description/meshes/cycloidal_arm/RIGHT_SHOULDER_ROLL_LINK.obj"/>
    </geometry>
    <origin rpy="0.0 0.0 0.0" xyz="0.0 0.0 0.0"/>
  </visual>
</link>

<link name="RIGHT_SHOULDER_YAW_LINK">
  <inertial>
    <mass value="2.53059"/>
    <origin rpy="0 0 0" xyz="0.00479 0.00062 -0.3624141"/>
    <inertia ixx="0.02277422" ixy="5.053e-5" ixz="0.0012266" iyy="0.0225956" iyz="-2.571e-4" izz="0.00260312" />
  </inertial>
  <visual>
    <geometry>
      <mesh filename="package://nadia_V17_description/meshes/cycloidal_arm/RIGHT_SHOULDER_YAW_LINK.obj"/>
    </geometry>
    <origin rpy="0.0 0.0 0.0" xyz="0.0 0.0 0.0"/>
  </visual>
</link>

<!-- Right Shoulder Yaw IMU -->
<joint name="RIGHT_SHOULDER_YAW_IMU_JOINT" type="fixed">
	<origin rpy="-1.570796 3.1415926 -0.314159" xyz="-0.00763459 -0.0123324 -0.318"/>
	<axis xyz="0 0 1"/>
	<parent link="RIGHT_SHOULDER_YAW_LINK"/> 
	<child link="RIGHT_SHOULDER_YAW_IMU_LINK"/>
</joint>

<link name="RIGHT_SHOULDER_YAW_IMU_LINK">
    <inertial>
      <mass value="0"/>
      <origin rpy="0 0 0" xyz="0 0 0"/>
      <inertia ixx="0.0" ixy="0.0" ixz="0.0" iyy="0.0" iyz="0.0" izz="0.0"/>
    </inertial>
 </link>

<gazebo reference="RIGHT_SHOULDER_YAW_IMU_LINK">
<sensor name="right_shoulder_yaw_imu" type="imu">
  <imuTransform>-0.00763459 -0.0123324 -0.318 -1.570796 3.1415926 -0.314159</imuTransform>
  <always_on>true</always_on>
  <pose>0 0 0 0 0 0 </pose>
  <imu>
	<noise>
	  <type>gaussian</type>
	  <rate>
		<mean>0</mean>
		<stddev>0.0002</stddev>
		<bias_mean>7.5e-06</bias_mean>
		<bias_stddev>8e-07</bias_stddev>
	  </rate>
	  <accel>
		<mean>0</mean>
		<stddev>0.017</stddev>
		<bias_mean>0.1</bias_mean>
		<bias_stddev>0.001</bias_stddev>
	  </accel>
	</noise>
  </imu>
</sensor>
</gazebo>

<link name="RIGHT_ELBOW_PITCH_LINK">
  <inertial>
    <mass value="0.6007"/>
    <origin rpy="0 0 0" xyz="-0.01090935 -0.01147189 -0.10388715"/>
    <inertia ixx="0.00760733" ixy="2.242e-5" ixz="-2.583e-4" iyy="0.00767556" iyz="0.00061995" izz="4.554e-4" />
  </inertial>
  <visual>
    <geometry>
      <mesh filename="package://nadia_V17_description/meshes/cycloidal_arm/RIGHT_ELBOW_PITCH_LINK_413mm_LENGTH.obj"/>
    </geometry>
    <origin rpy="0.0 0.0 0.0" xyz="0.0 0.0 0.0"/>
  </visual>
</link>


</robot>
